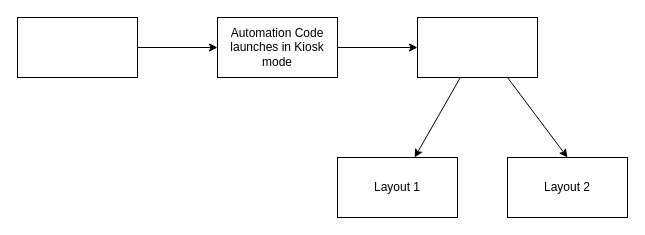
This 645x235 diagram has some shape labels left out. The shapes that lost their labels are listed below. From the top down, each one's box as (x1, y1, x2, y2) in pixels, then its label:
(16, 16, 138, 78): Raspberry Pi Power ON
(416, 16, 538, 78): GUI Opens offline layout 1
